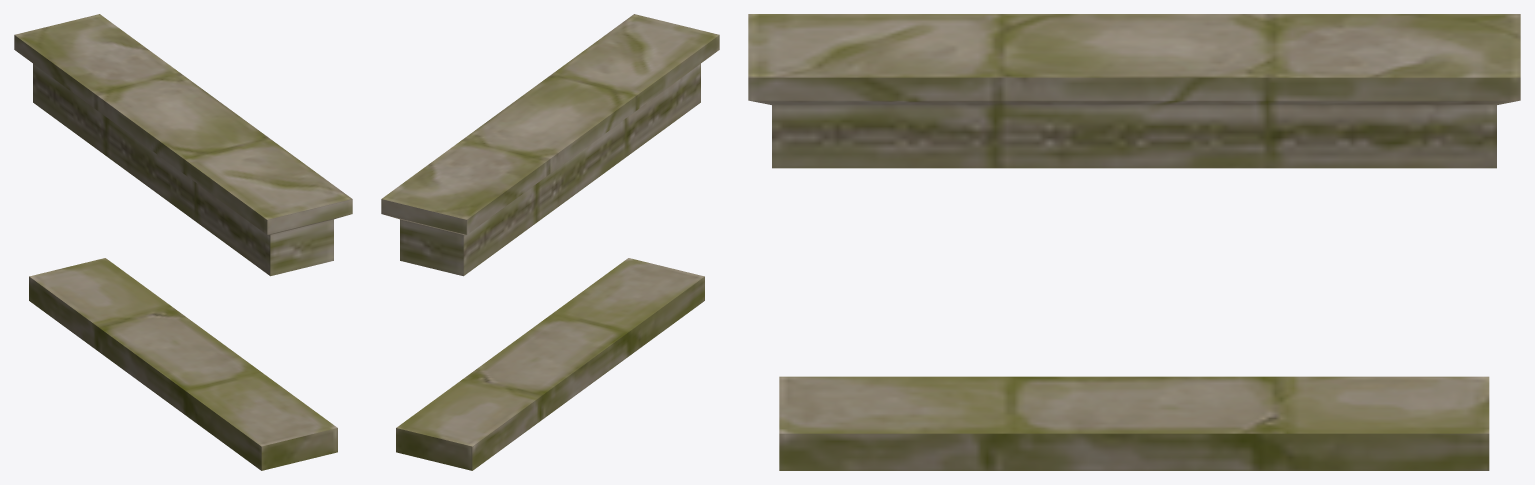
File: swamp_temple_6.FBX
3 renders of one model, left to right at view 1: azimuth 30°, elevation 25°; view 2: azimuth 150°, elevation 25°; view 3: azimuth 270°, elevation 25°, orthographic. The views are drawn at different scales.
Visible parts, largest first — view 1: swamp_temple_6; view 2: swamp_temple_6; view 3: swamp_temple_6.
Part boxes in pixels (x1,y1,x2,y2): swamp_temple_6: (14,14,352,470); swamp_temple_6: (381,14,719,470); swamp_temple_6: (748,14,1520,470).
Size of the model in its own units: 45.11 by 131 by 231.
